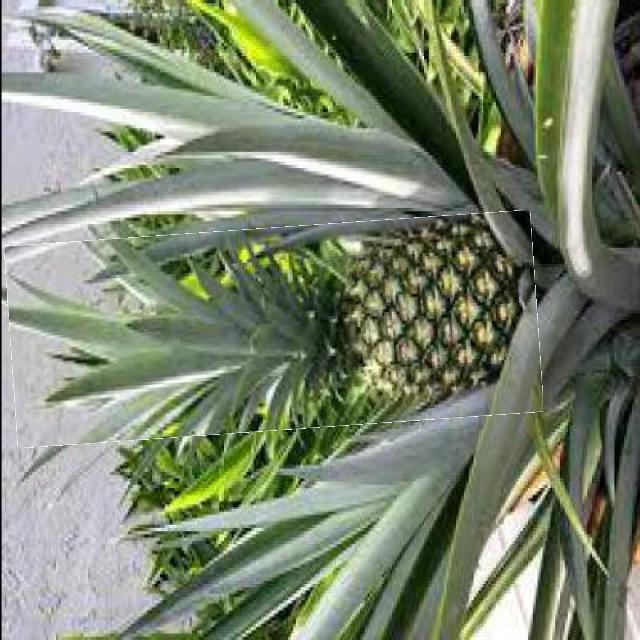Pineapple: (7, 219, 540, 439)
